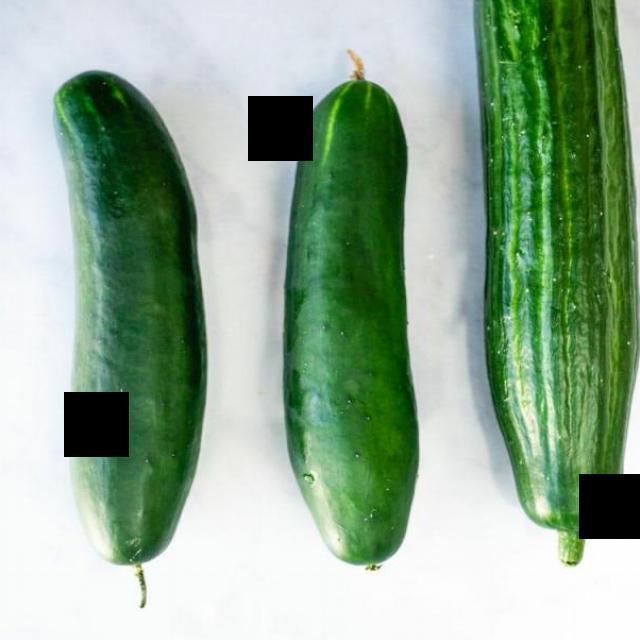cucumber: (473, 0, 640, 568), (38, 66, 206, 602), (276, 63, 424, 579)
